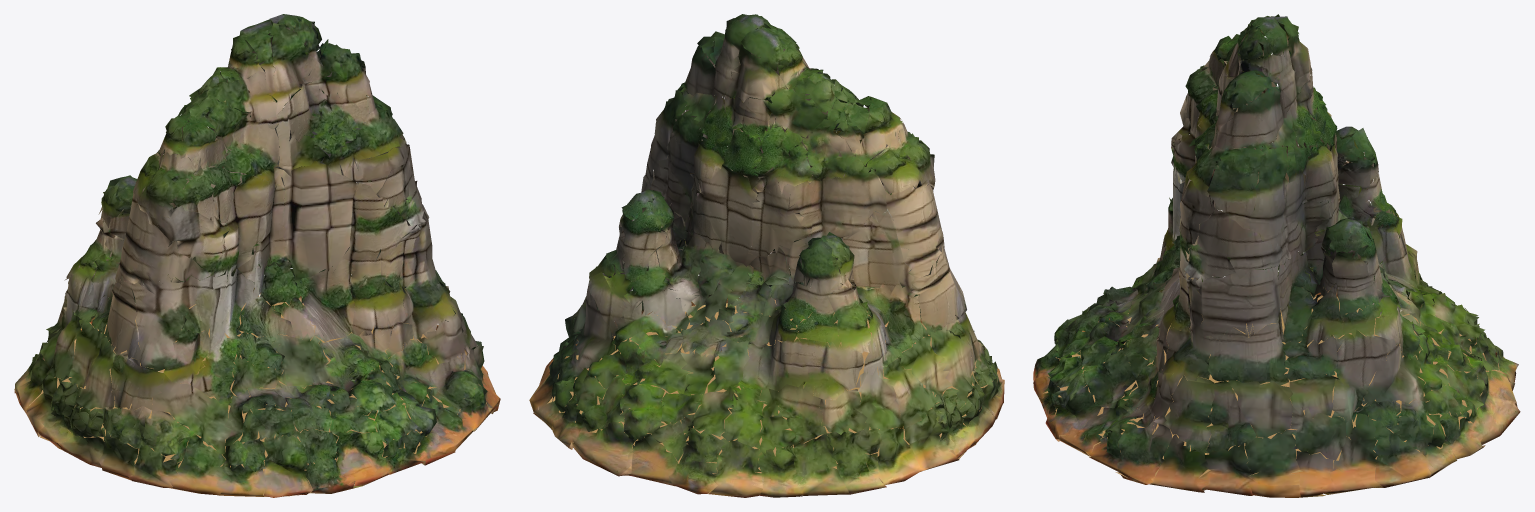
Rendered from Majestic_Rock_Formati_town.glb.
3 views of the same model, side by side, from view 1: azimuth 30°, elevation 25°; view 2: azimuth 150°, elevation 25°; view 3: azimuth 270°, elevation 25° (orthographic). The views are drawn at different scales.
Visible parts, largest first — view 1: Majestic_Rock_Formati; view 2: Majestic_Rock_Formati; view 3: Majestic_Rock_Formati.
Part boxes in pixels (x1=…): Majestic_Rock_Formati: x1=14, y1=14, x2=500, y2=497; Majestic_Rock_Formati: x1=529, y1=14, x2=1004, y2=497; Majestic_Rock_Formati: x1=1033, y1=14, x2=1520, y2=497.
Size of the model in its own units: 1.91 by 1.69 by 1.91.
1 material, 1 textured.
